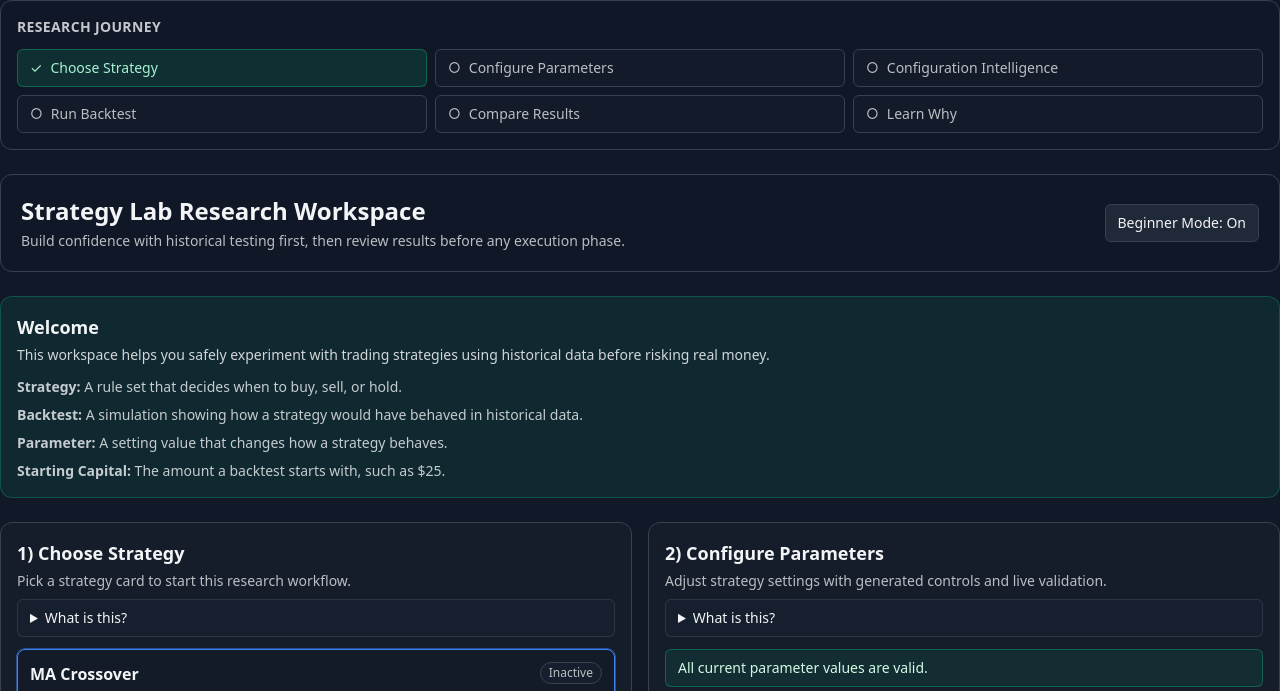
Test: StrategyLabPage Prompt 4.2 › renders Beginner Mode strategy explanations and supports toggle
Click the switch labelled "Beginner Mode": (1182, 223) [1104,204,1259,242]
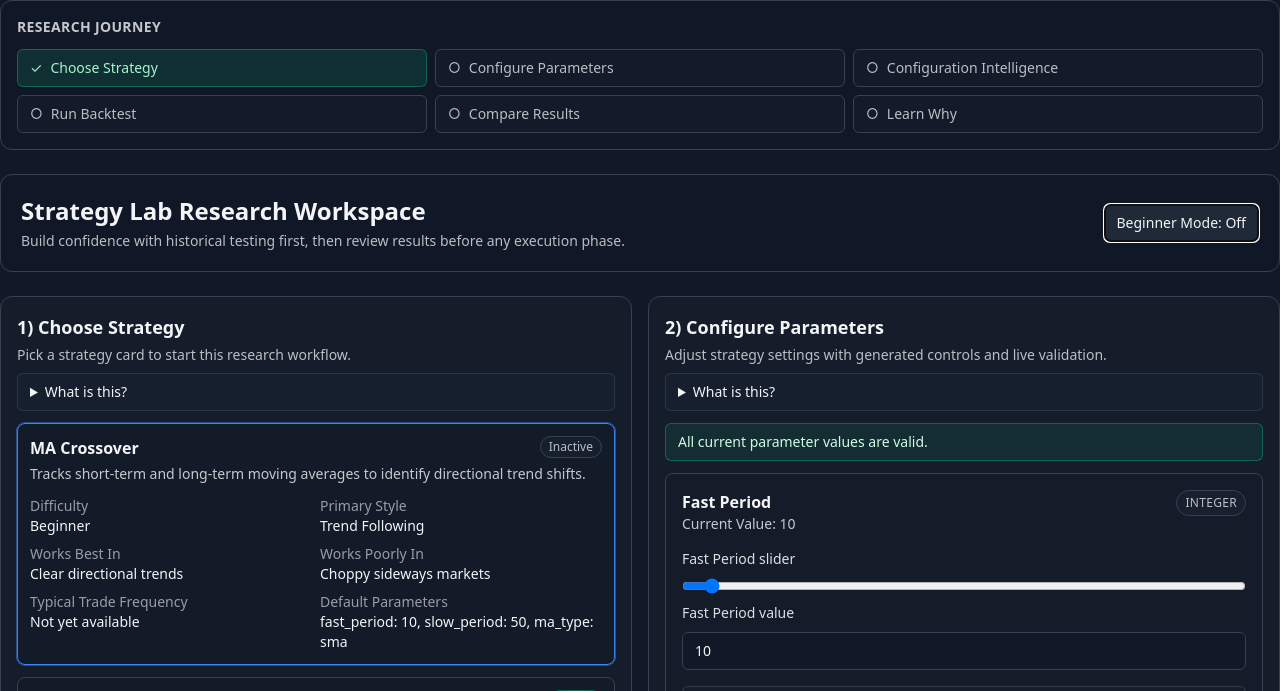
Check: no buttons "What does this strategy do?" are shown
